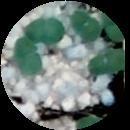Basil: (15, 40, 45, 74), (26, 19, 63, 45), (89, 50, 125, 75), (73, 13, 100, 41)
